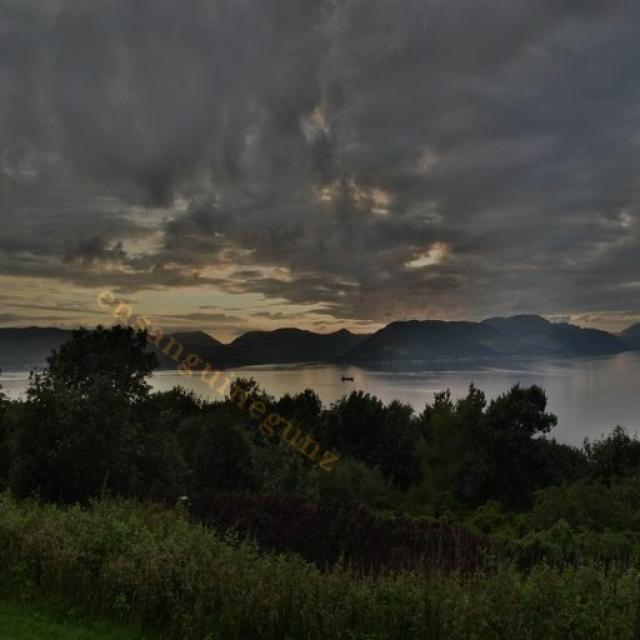watermark: (84, 274, 354, 478)
